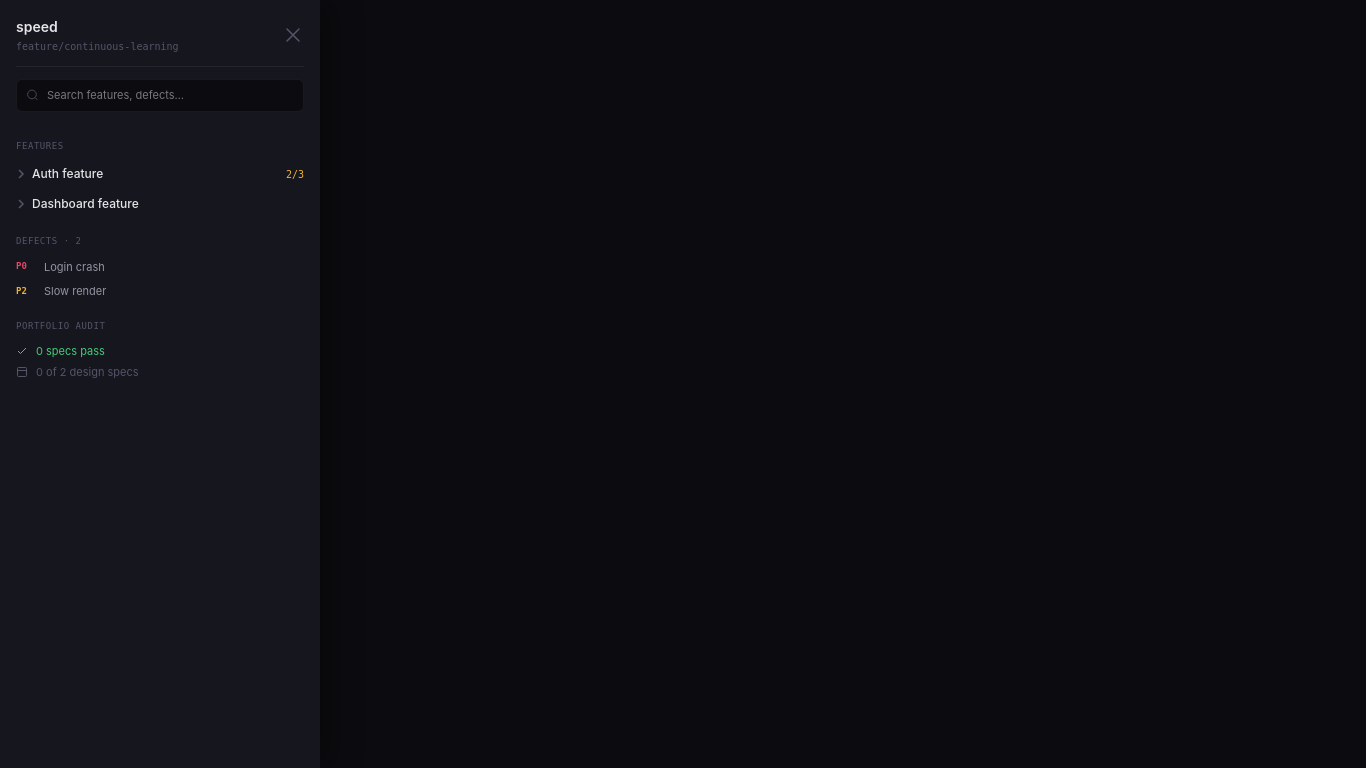
ExplorerPanel › search › shows no matches message when search has no results
Type "nonexistent" into the field with placeholder "Search features, defects…" at (160, 95), box [16, 79, 304, 112]
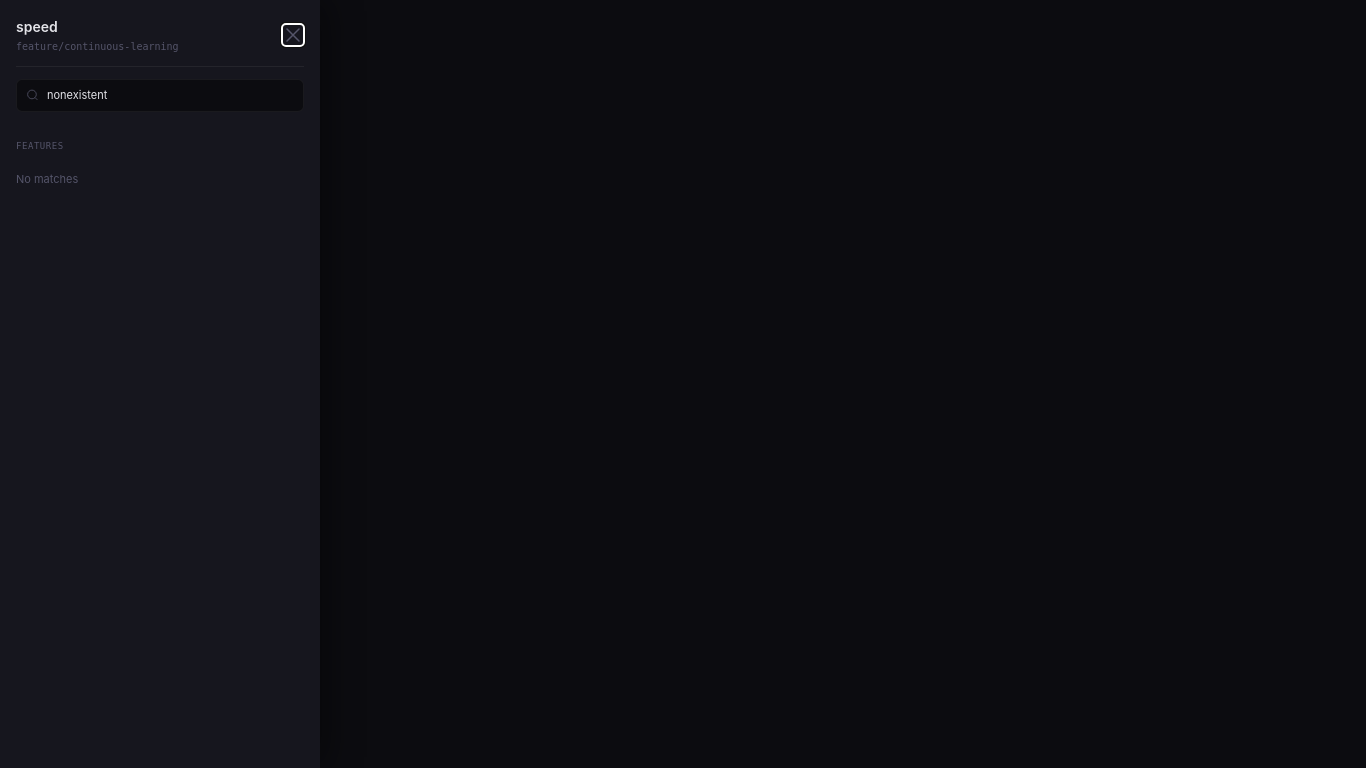
Check: the text "No matches" is shown, box [16, 172, 78, 186]
